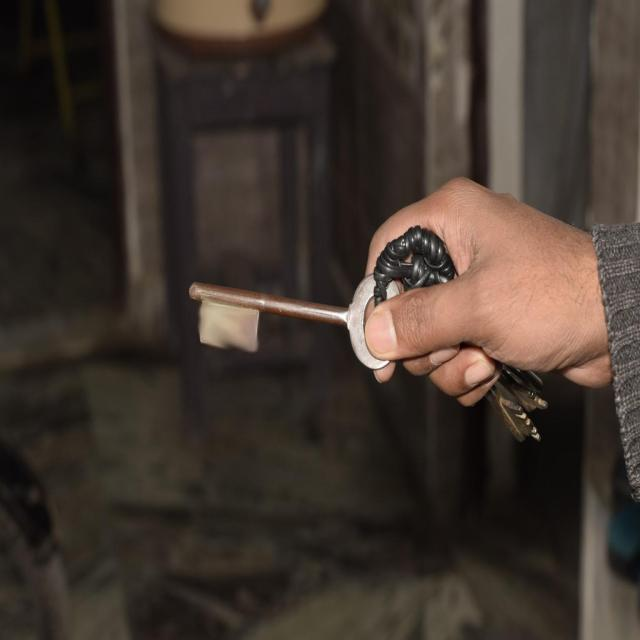Frontdoor keys: (187, 268, 409, 372)
